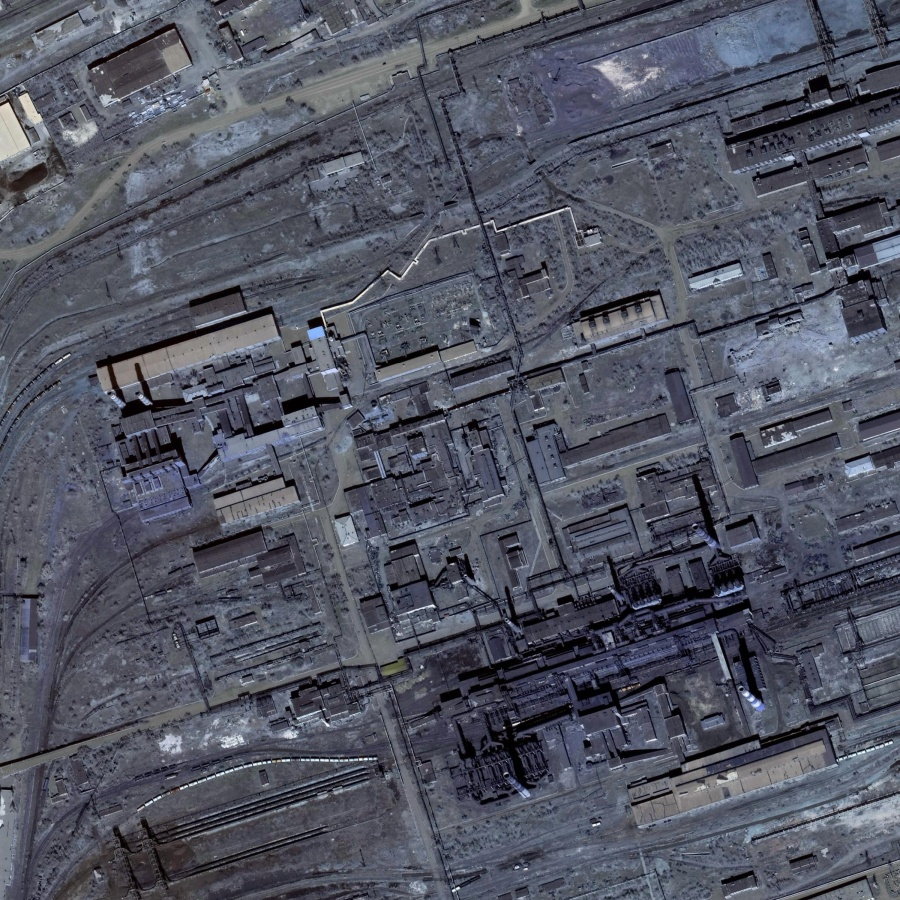PowerPlant: (433, 511, 785, 805)
